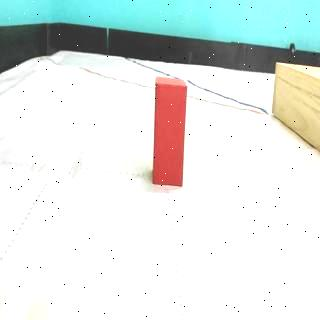redbox: (152, 76, 188, 188)
